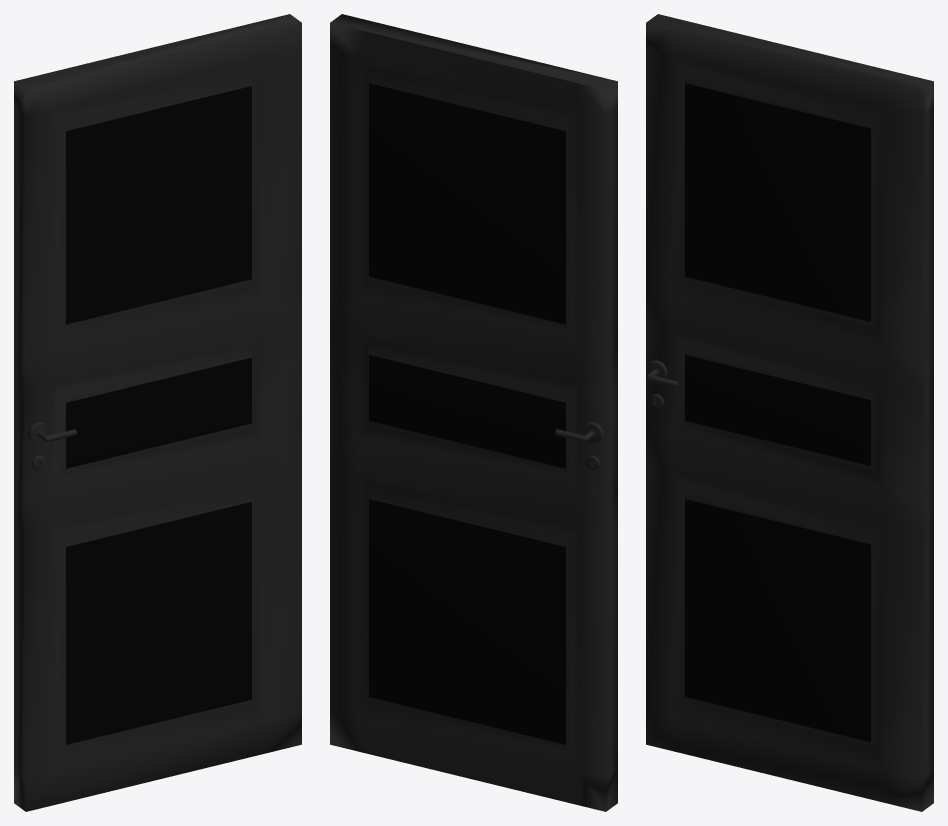
The model's file is 005dc199-2d48-439a-802e-193175dfb4fc.glb.
The picture shows the model from 3 angles, left to right: view 1: azimuth 30°, elevation 25°; view 2: azimuth 150°, elevation 25°; view 3: azimuth 330°, elevation 25°; orthographic projection.
Parts seen in each view (by area): view 1: Door.017; view 2: Door.017; view 3: Door.017.
Boxes of the visible parts, box(x1,y1,x2,y2) form: Door.017: box(14, 14, 301, 811); Door.017: box(330, 14, 617, 811); Door.017: box(646, 14, 933, 811).
Size of what is drawn, in the model's own units: 0.8628 by 2.16 by 0.1816.
Materials: 2 (2 with a texture image).
